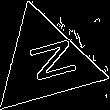N_W: (16, 37, 76, 89)
